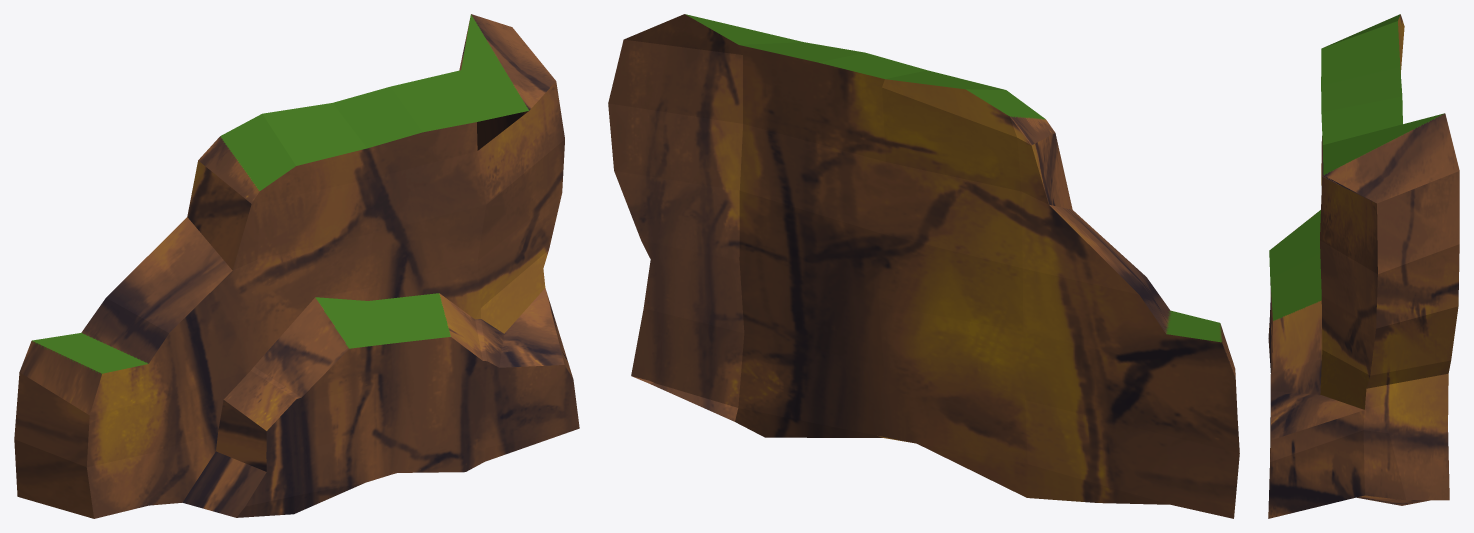
File: sali21.obj
3 renders of one model, left to right at view 1: azimuth 30°, elevation 25°; view 2: azimuth 150°, elevation 25°; view 3: azimuth 270°, elevation 25°, orthographic. The views are drawn at different scales.
Parts seen in each view (by area): view 1: Plane.005_Plane; view 2: Plane.005_Plane; view 3: Plane.005_Plane.
Boxes of the visible parts, x1,y1,x2,y2 form: Plane.005_Plane: [14, 14, 579, 518]; Plane.005_Plane: [608, 14, 1239, 518]; Plane.005_Plane: [1268, 14, 1459, 518].
Bounding box in the file's own units: 225 × 152 × 63.6.
1 material, 1 textured.
